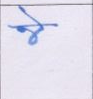e_matra: (18, 7, 41, 24)
